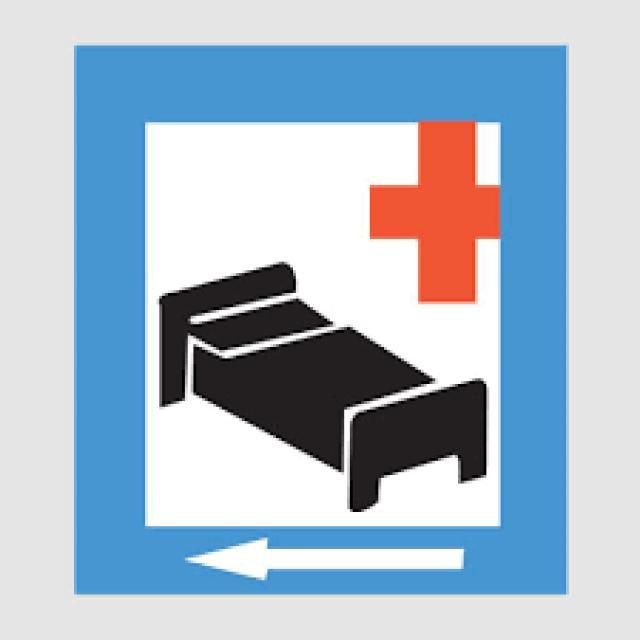hospital ahead: (78, 50, 562, 588)
